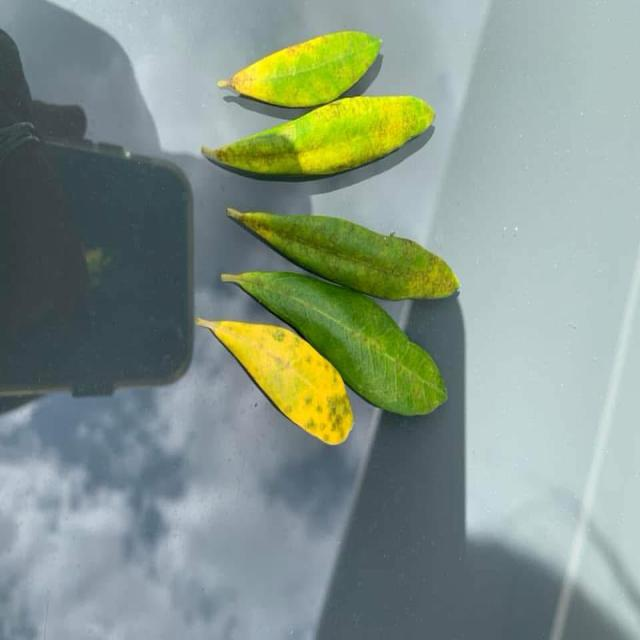Peacock Eye: (227, 209, 458, 300), (198, 319, 353, 444), (202, 96, 434, 177), (219, 31, 381, 109)
